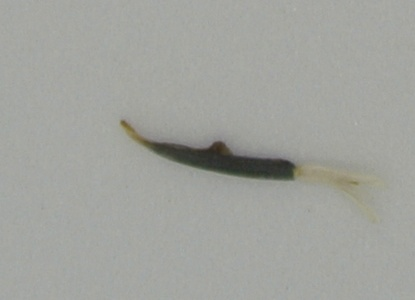เมล็ดงอกแตก: (118, 116, 380, 224)
